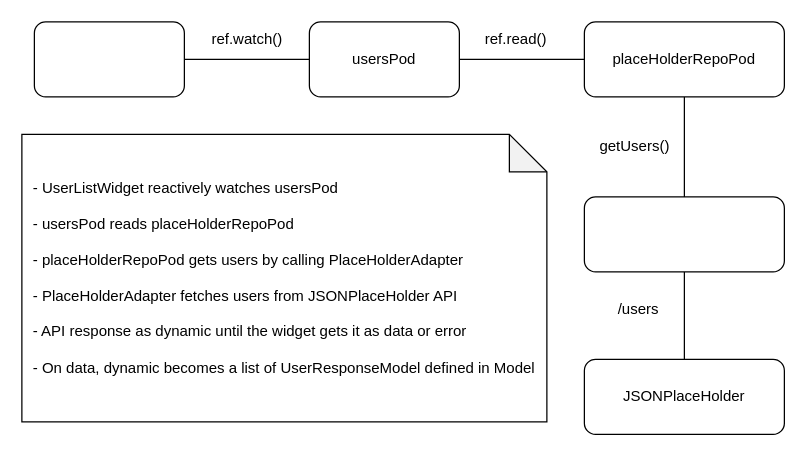
The diagram is 806 pixels wide and 456 high, and some of its shapes have lost their labels. Here are the shapes that lost their labels. From the top down, the box of each, then its label:
(33, 21, 184, 97): UserListWidget
(583, 196, 784, 272): PlaceHolderAdapter
